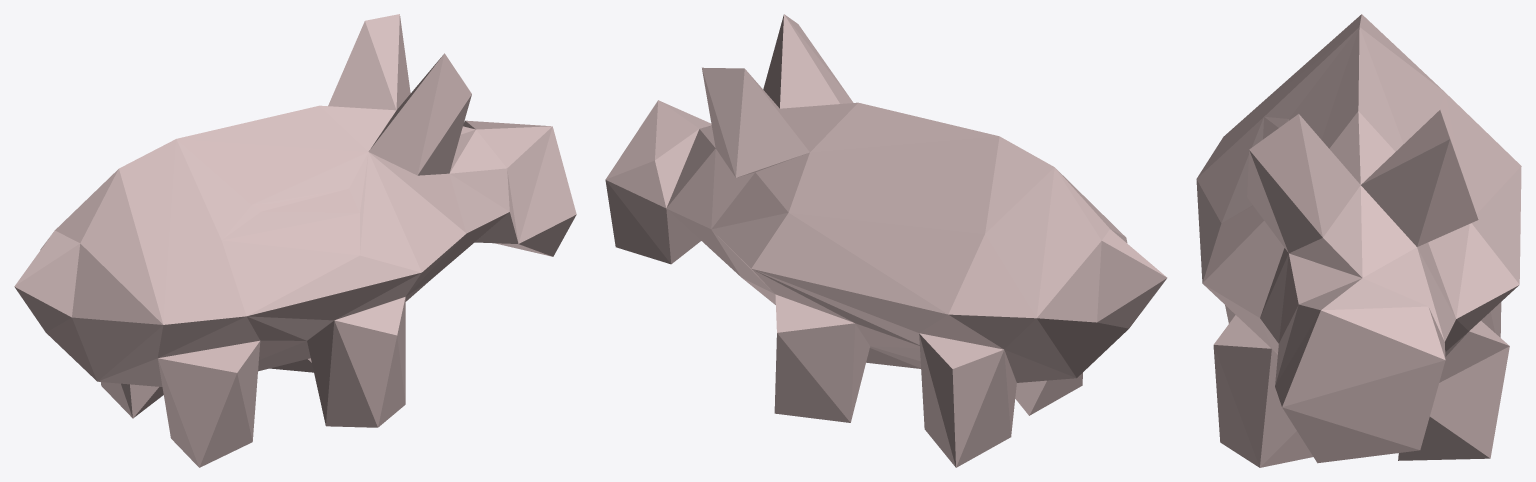
3 renders of one model, left to right at view 1: azimuth 30°, elevation 25°; view 2: azimuth 150°, elevation 25°; view 3: azimuth 270°, elevation 25°, orthographic. The views are drawn at different scales.
Parts seen in each view (by area): view 1: part0; view 2: part0; view 3: part0.
Boxes of the visible parts, box(x1,y1,x2,y2) form: part0: box(14, 14, 576, 467); part0: box(605, 14, 1167, 467); part0: box(1196, 14, 1521, 467).
Bounding box in the file's own units: 3.64 × 2.18 × 1.62.
